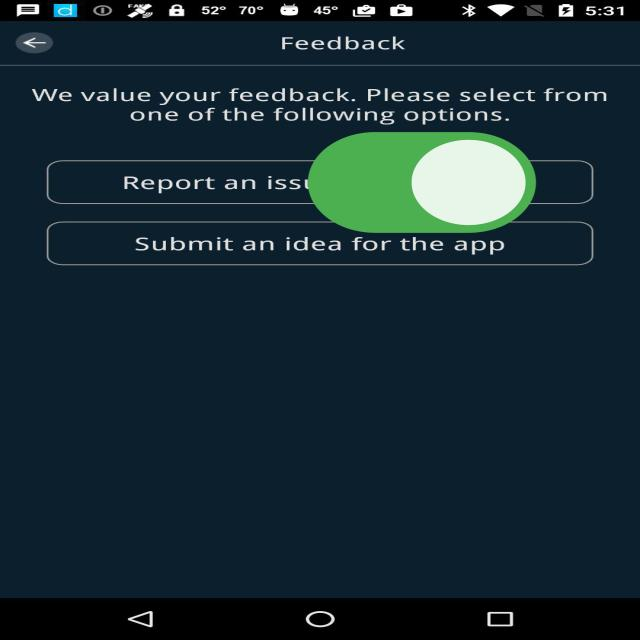social proof: (298, 93, 546, 280)
